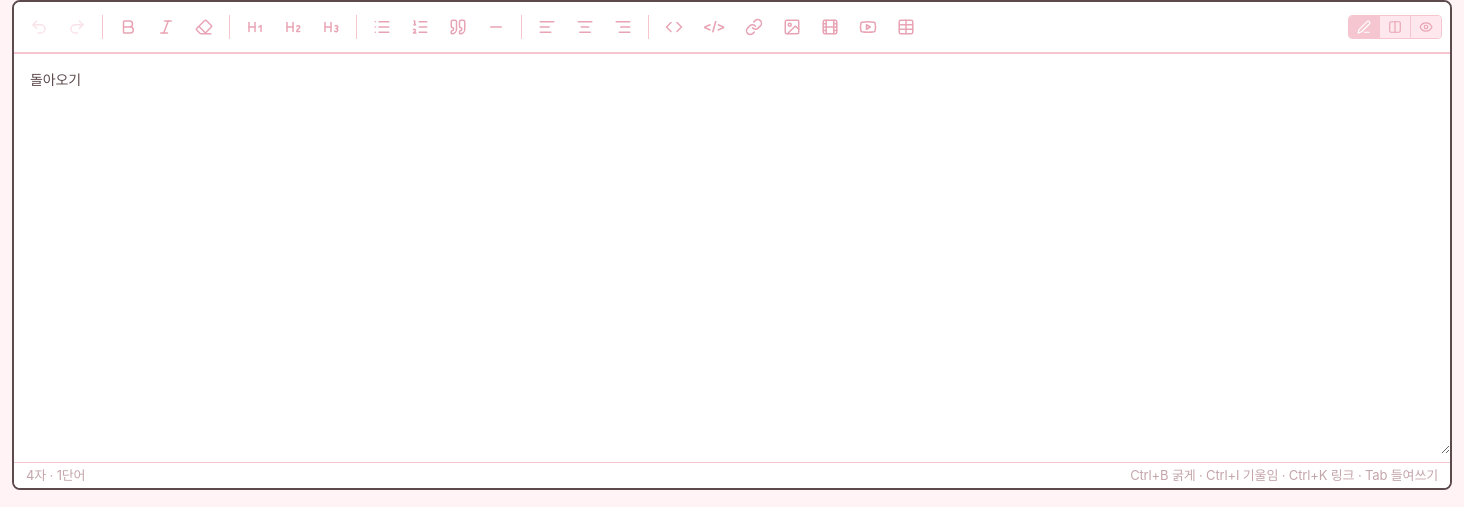
Scenario: MarkdownEditor › 뷰 모드 › 편집 모드로 돌아올 수 있다
The width and height of the screenshot is (1464, 507).
Click the button named "미리보기 모드" at point(1426, 27), box left=1411, top=16, right=1441, bottom=38
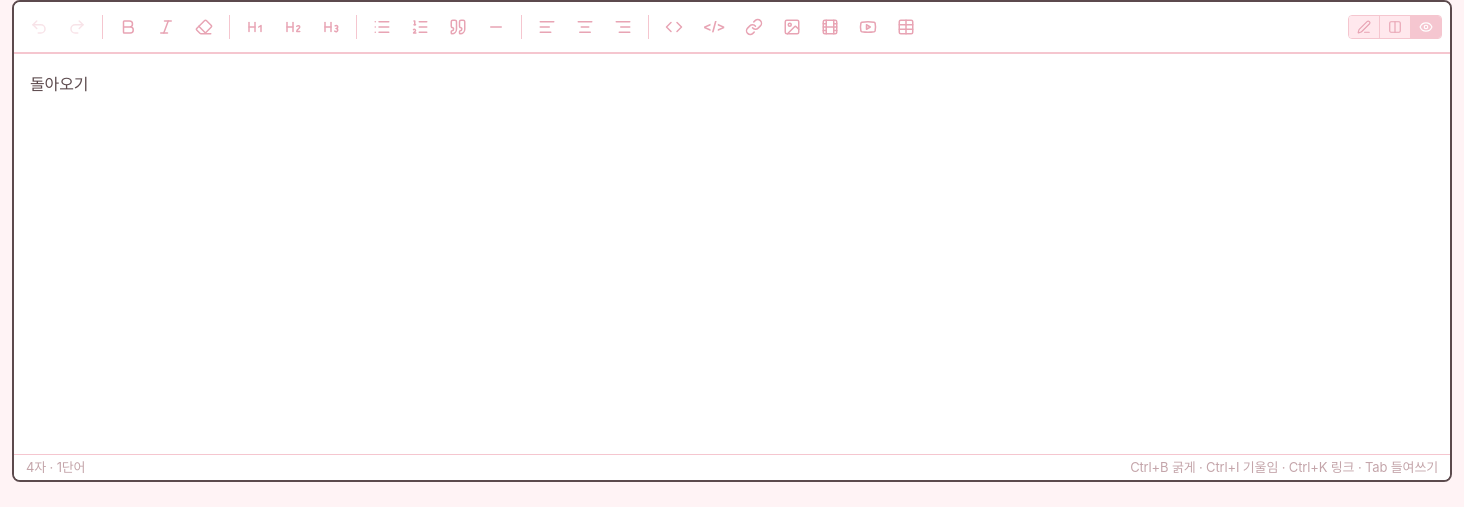
Click the button named "편집 모드" at point(1364, 27), box left=1349, top=16, right=1379, bottom=38
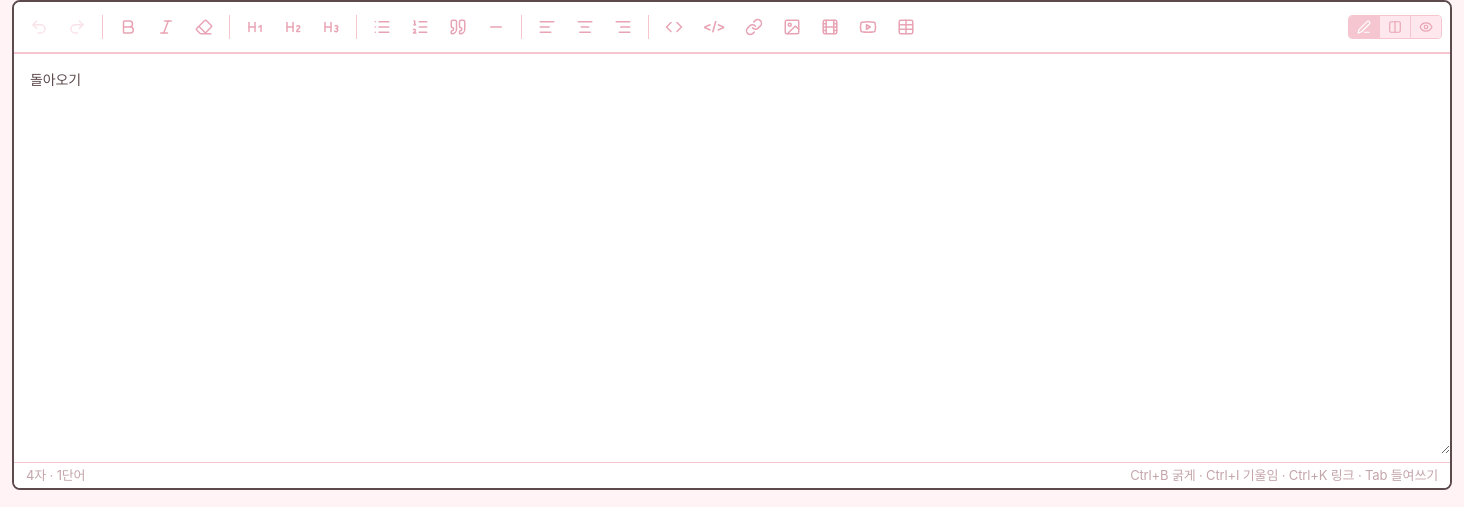
Expected: the text box named "마크다운 편집기" is shown
